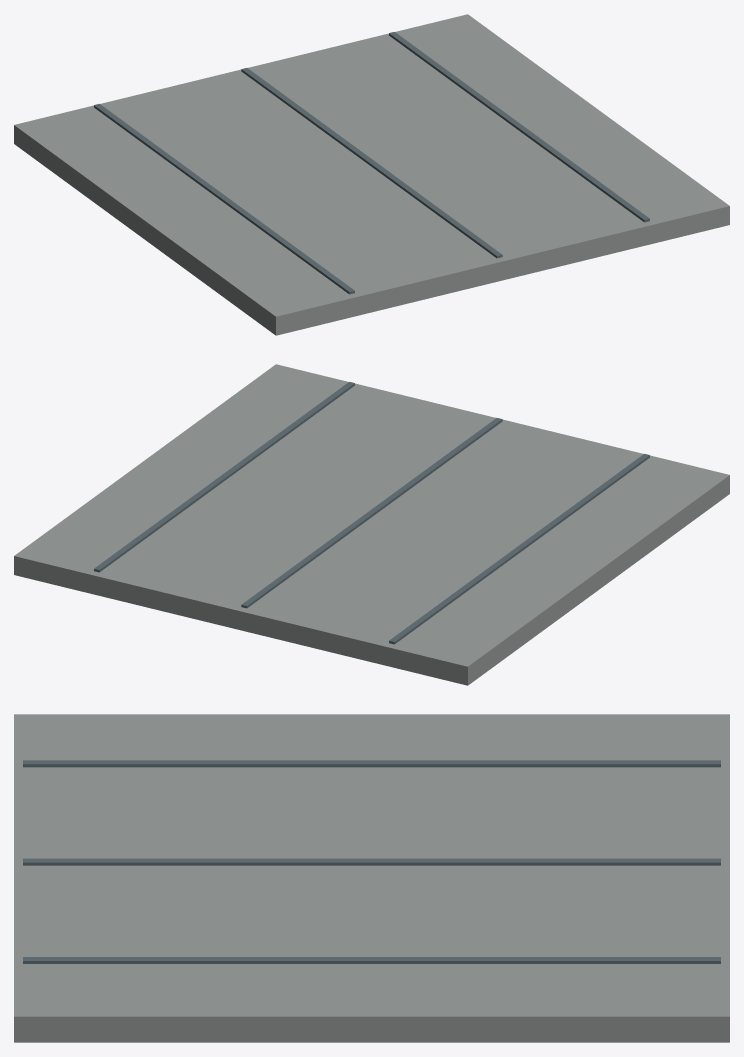
File: tile_sidewalk.glb
3 renders of one model, top to bottom at view 1: azimuth 30°, elevation 25°; view 2: azimuth 150°, elevation 25°; view 3: azimuth 270°, elevation 25°, orthographic. The views are drawn at different scales.
Parts seen in each view (by area): view 1: tile_sidewalk; view 2: tile_sidewalk; view 3: tile_sidewalk.
Boxes of the visible parts, x1,y1,x2,y2 form: tile_sidewalk: (14,14,729,335); tile_sidewalk: (14,364,729,685); tile_sidewalk: (14,714,729,1042).
Bounding box in the file's own units: 2 × 0.095 × 2.
